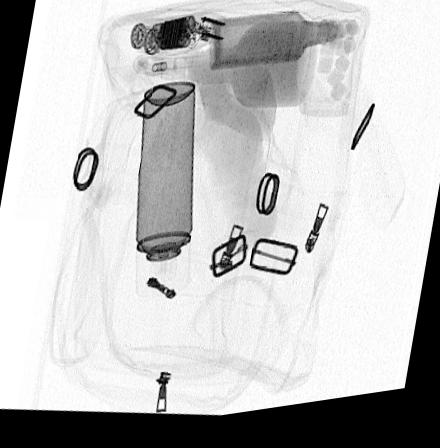Sprayer: (132, 85, 195, 305)
